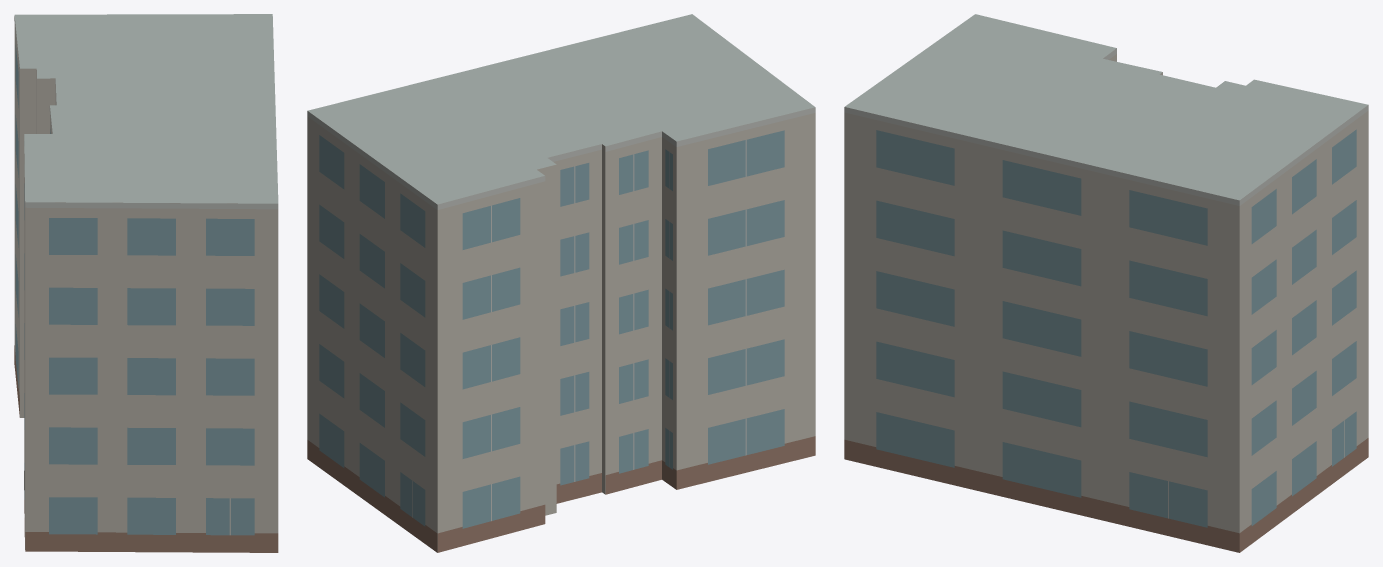
The model's file is survey-upis-32742469.glb.
3 views of the same model, side by side, from view 1: azimuth 30°, elevation 25°; view 2: azimuth 150°, elevation 25°; view 3: azimuth 270°, elevation 25° (orthographic).
Visible parts, largest first — view 1: survey-upis-32742469.tmp; view 2: survey-upis-32742469.tmp; view 3: survey-upis-32742469.tmp.
Part boxes in pixels (x1,y1,x2,y2): survey-upis-32742469.tmp: [14, 14, 278, 552]; survey-upis-32742469.tmp: [307, 14, 815, 552]; survey-upis-32742469.tmp: [844, 14, 1368, 552].
Size of the model in its own units: 17.31 by 15.25 by 20.56.
